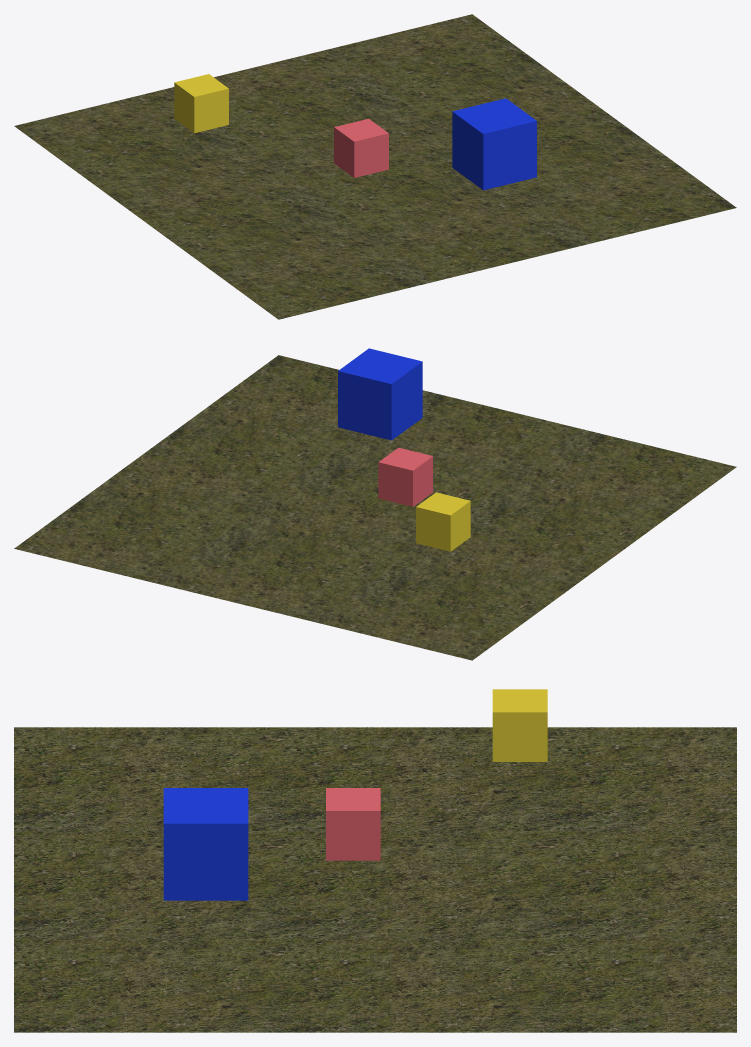
The picture shows the model from 3 angles, top to bottom: view 1: azimuth 30°, elevation 25°; view 2: azimuth 150°, elevation 25°; view 3: azimuth 270°, elevation 25°; orthographic projection. The views are drawn at different scales.
Visible parts, largest first — view 1: 平面, 立方体.001, 立方体, 立方体.002; view 2: 平面, 立方体.001, 立方体, 立方体.002; view 3: 平面, 立方体.001, 立方体, 立方体.002.
Boxes of the visible parts, x1,y1,x2,y2 form: 平面: [14, 14, 736, 319]; 立方体.001: [452, 98, 536, 190]; 立方体: [174, 74, 228, 133]; 立方体.002: [334, 118, 388, 177]; 平面: [14, 355, 736, 660]; 立方体.001: [338, 348, 422, 440]; 立方体: [416, 492, 470, 551]; 立方体.002: [378, 447, 432, 506]; 平面: [14, 727, 736, 1032]; 立方体.001: [163, 788, 248, 900]; 立方体: [492, 689, 547, 761]; 立方体.002: [326, 788, 380, 860].
Size of the model in its own units: 6.25 by 1.07 by 6.25.
4 materials, 1 textured.
